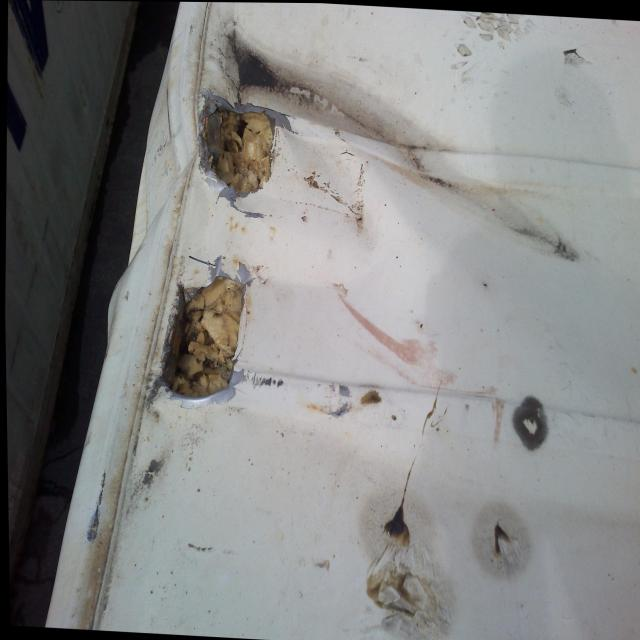hole: (160, 262, 252, 402), (197, 88, 281, 200)
